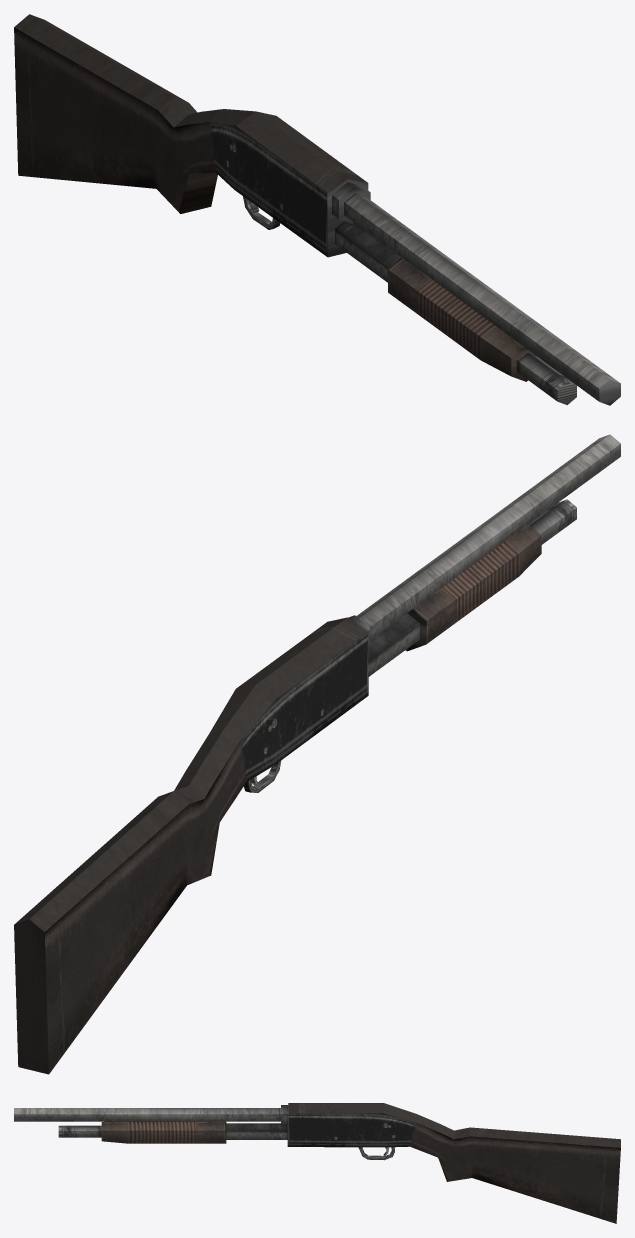
Rendered from shotgun.fbx.
3 renders of one model, top to bottom at view 1: azimuth 30°, elevation 25°; view 2: azimuth 150°, elevation 25°; view 3: azimuth 270°, elevation 25°, orthographic. The views are drawn at different scales.
Parts seen in each view (by area): view 1: Cylinder; view 2: Cylinder; view 3: Cylinder.
Part boxes in pixels (left/top/right/bottom): Cylinder: left=14, top=14, right=620, bottom=405; Cylinder: left=14, top=434, right=620, bottom=1074; Cylinder: left=14, top=1103, right=620, bottom=1223.
Size of the model in its own units: 18.6 by 97.46 by 459.
Materials: 1 (1 with a texture image).
